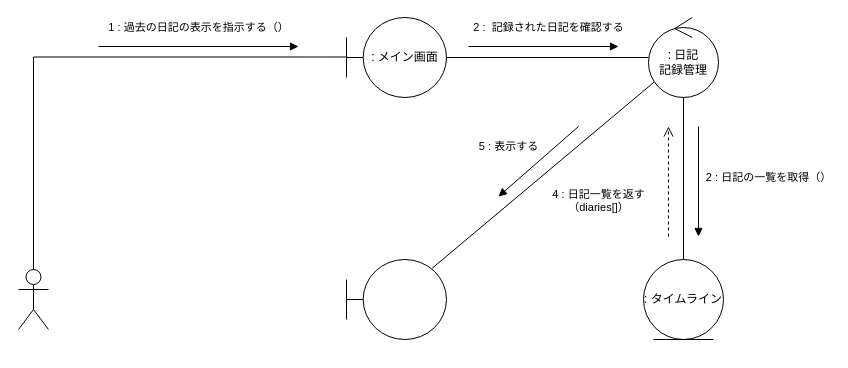
Some shapes in this 848 by 368 pixel diagram are drawn without their labels. Here are the shapes that lost their labels. From the top down, the centre of each, then its label:
At (x=33, y=299): ": User".
At (x=396, y=299): ": 過去の日記を表示する画面".
